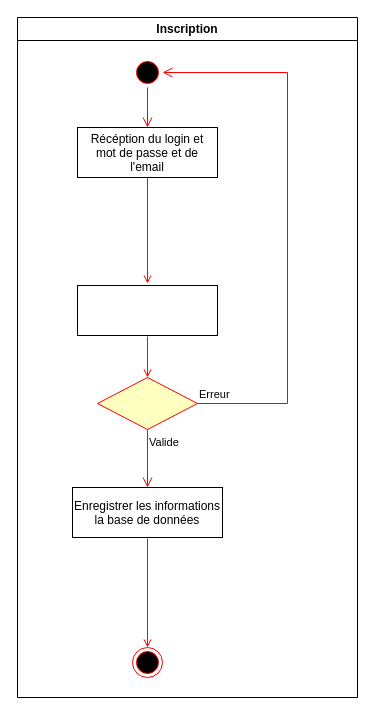
The diagram is 375 pixels wide and 715 high, and some of its shapes have lost their labels. Each missing label, with the centre of its shape:
Controle si les mots de passes sont identiques: point 147,310
Mots de passes identiques: point 147,403
